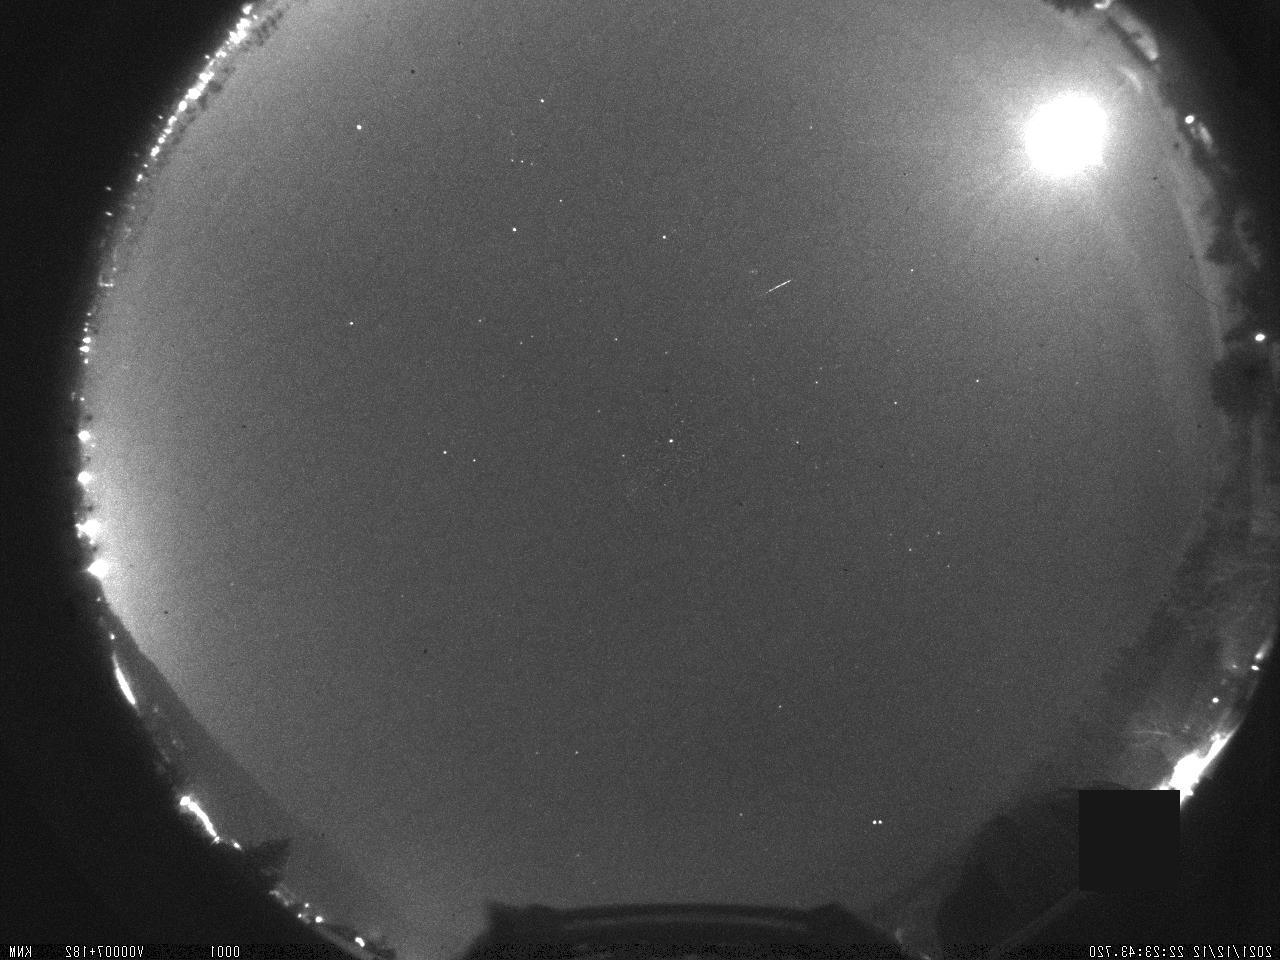meteor: (745, 277, 795, 308)
